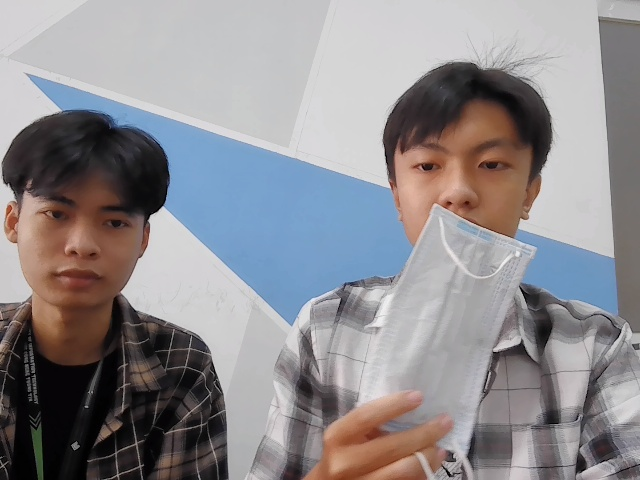human: (1, 110, 186, 310), (381, 63, 558, 260)
mask: (374, 201, 522, 461)
